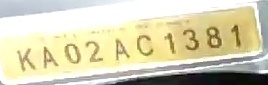character: (15, 47, 37, 72), (135, 33, 154, 56), (181, 28, 200, 51), (85, 39, 103, 63), (204, 25, 222, 48), (42, 44, 59, 68), (114, 37, 131, 61), (63, 42, 81, 64), (163, 31, 177, 56), (229, 23, 241, 48)
